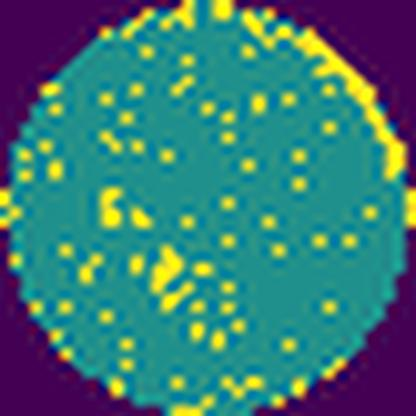Edge-Loc: (245, 5, 415, 177)
